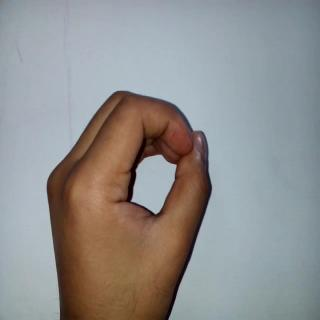O: (41, 68, 226, 307)
